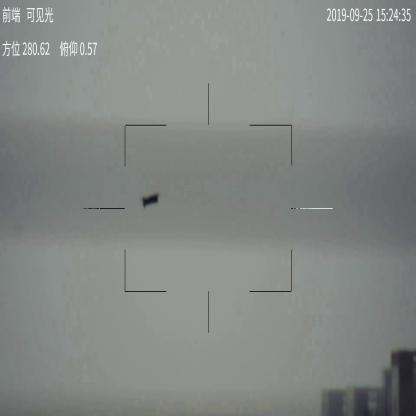uav: (141, 192, 160, 207)
